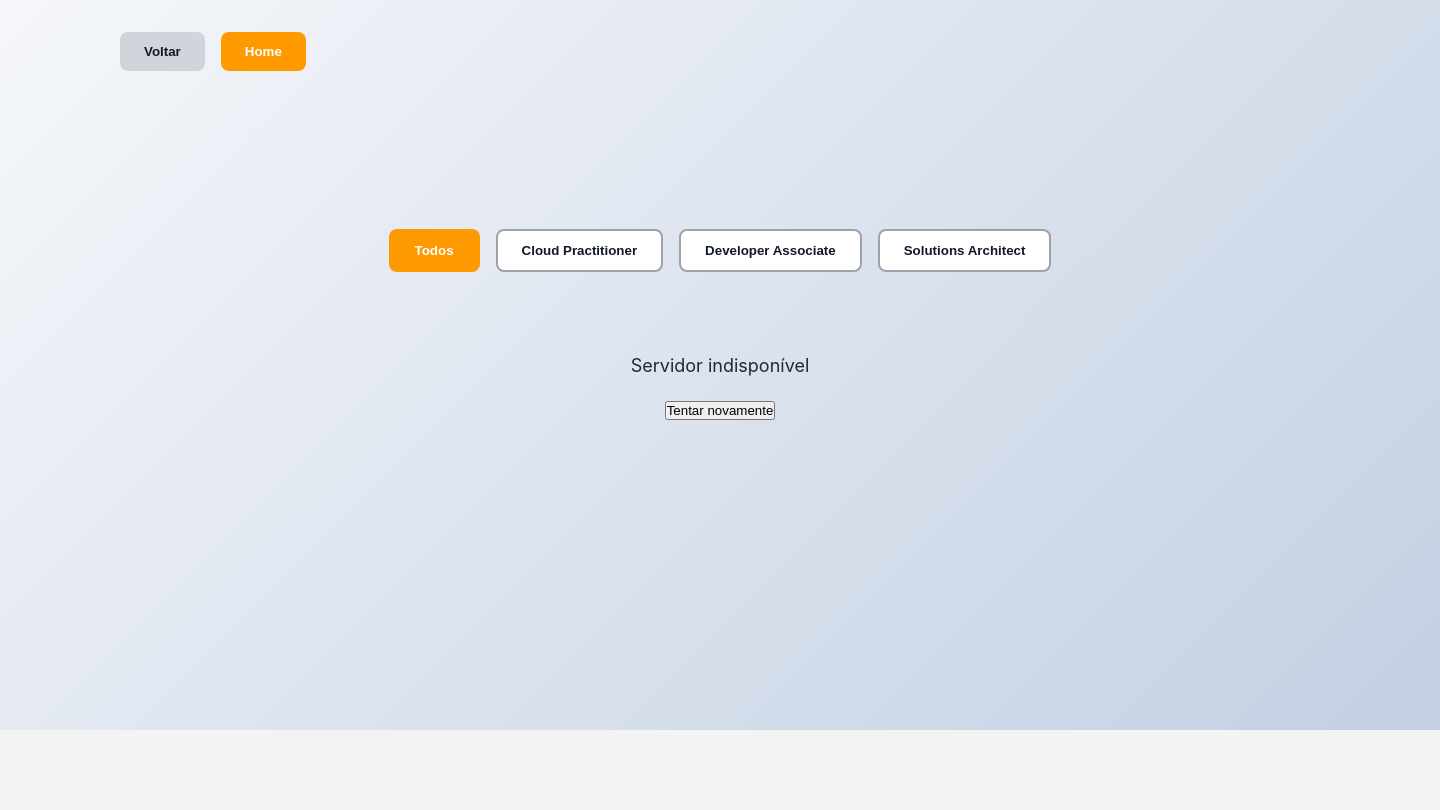
Test case: visitante consulta o ranking público e pode tentar de novo após falha
The image size is (1440, 810).
Expected: the message shows "Servidor indisponível", [631,355,809,376]
Click the button "Tentar novamente" at point(720, 411), box [665,401,775,420]
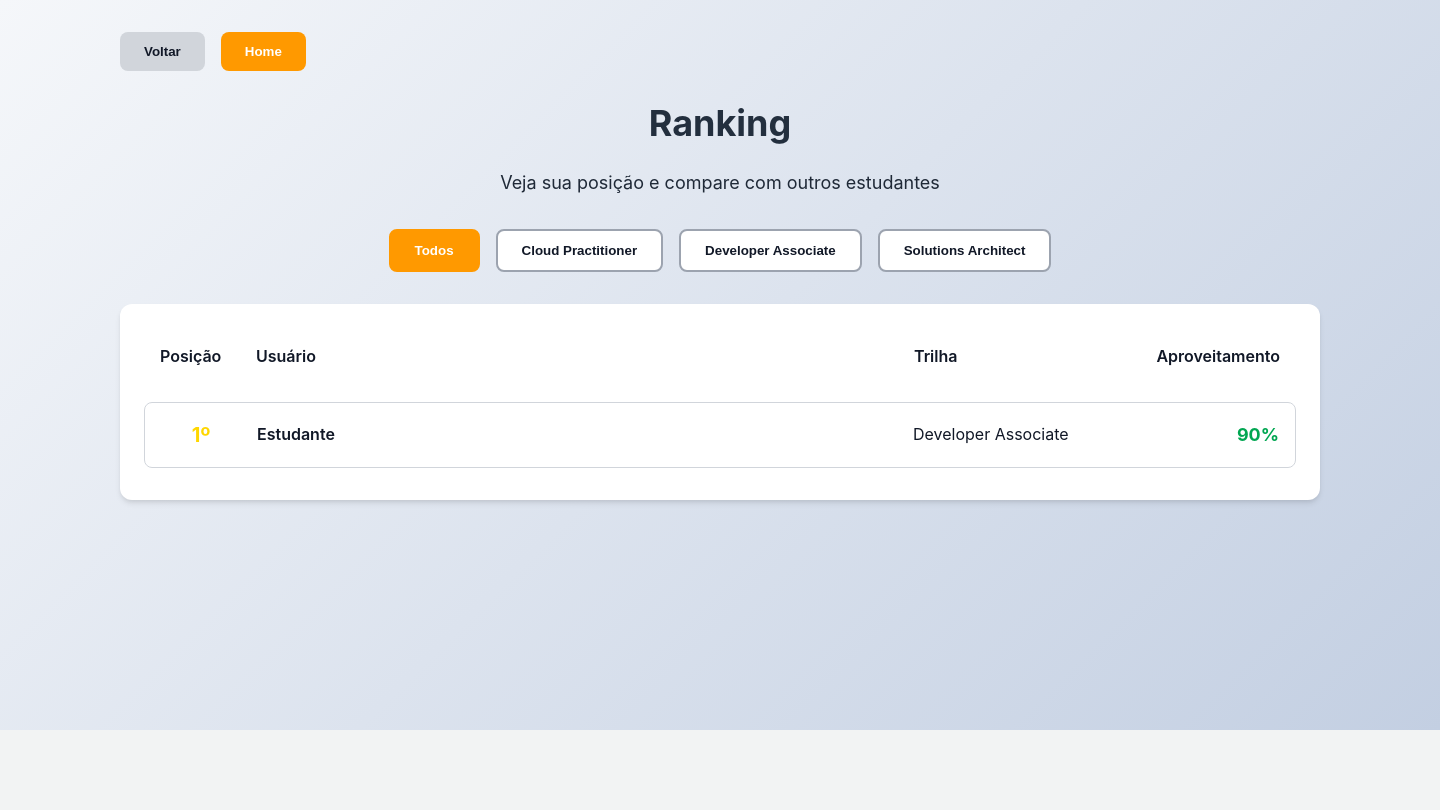
Result: the text "Estudante" is shown at [257,424,335,444]
